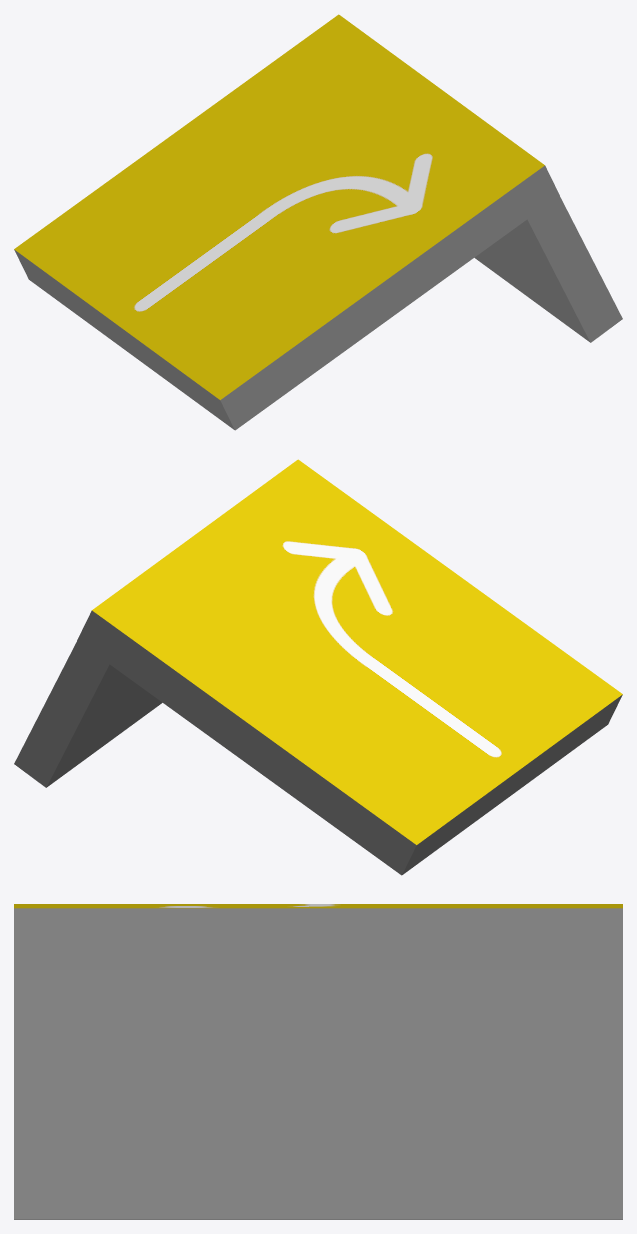
The model's file is slowR.fbx.
3 renders of one model, top to bottom at view 1: azimuth 30°, elevation 25°; view 2: azimuth 150°, elevation 25°; view 3: azimuth 270°, elevation 25°, orthographic. The views are drawn at different scales.
Visible parts, largest first — view 1: sign_back; view 2: sign_back; view 3: sign_back.
Boxes of the visible parts, x1,y1,x2,y2 form: sign_back: (14, 14, 622, 430); sign_back: (14, 459, 622, 875); sign_back: (14, 904, 622, 1219).
Size of the model in its own units: 225 by 101 by 200.
